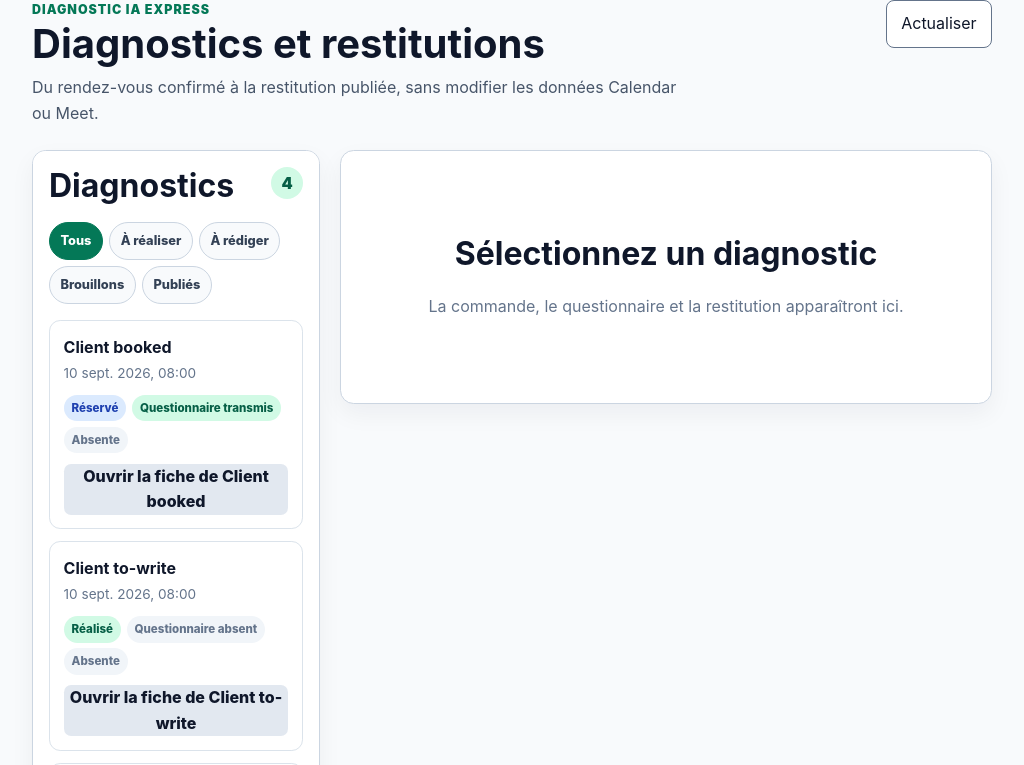
administration des Diagnostics IA et restitutions › marque un booking booked comme completed après confirmation sans appel Calendar ou Meet
Click the button "Ouvrir la fiche de Client booked".
click(176, 489)  # box [64,464,288,515]
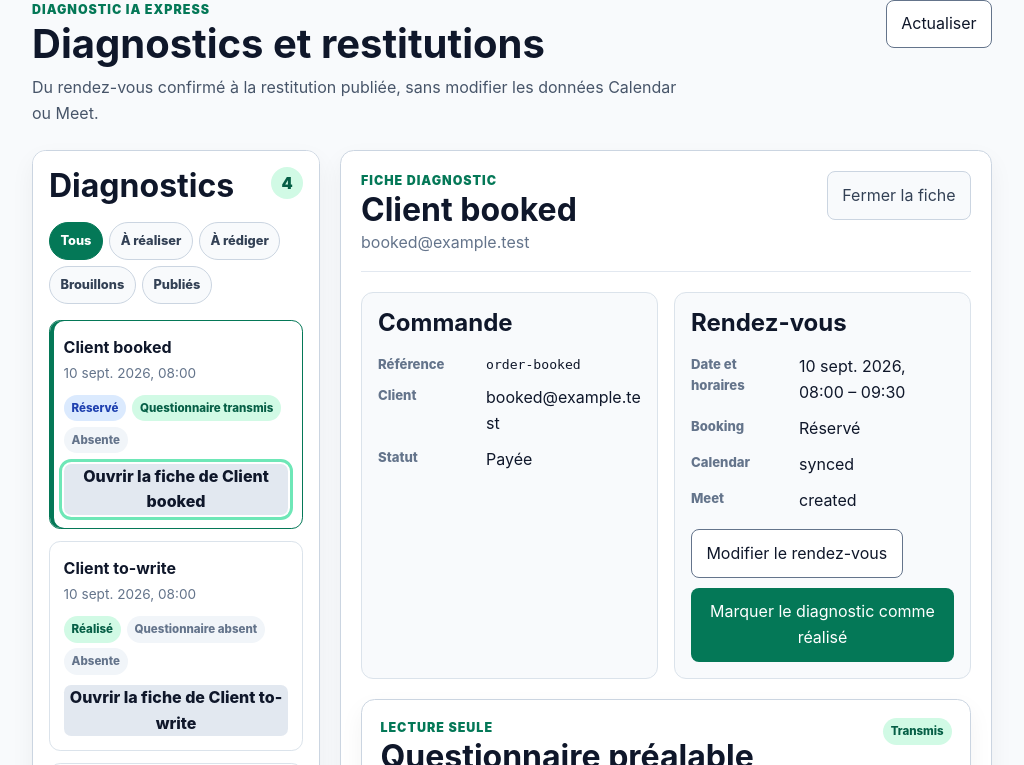
Now the heading "Client booked" is shown, box [361,191,577,230]
Click the button "Marquer le diagnostic comme réalisé".
click(822, 625)  # box [691,588,954,662]
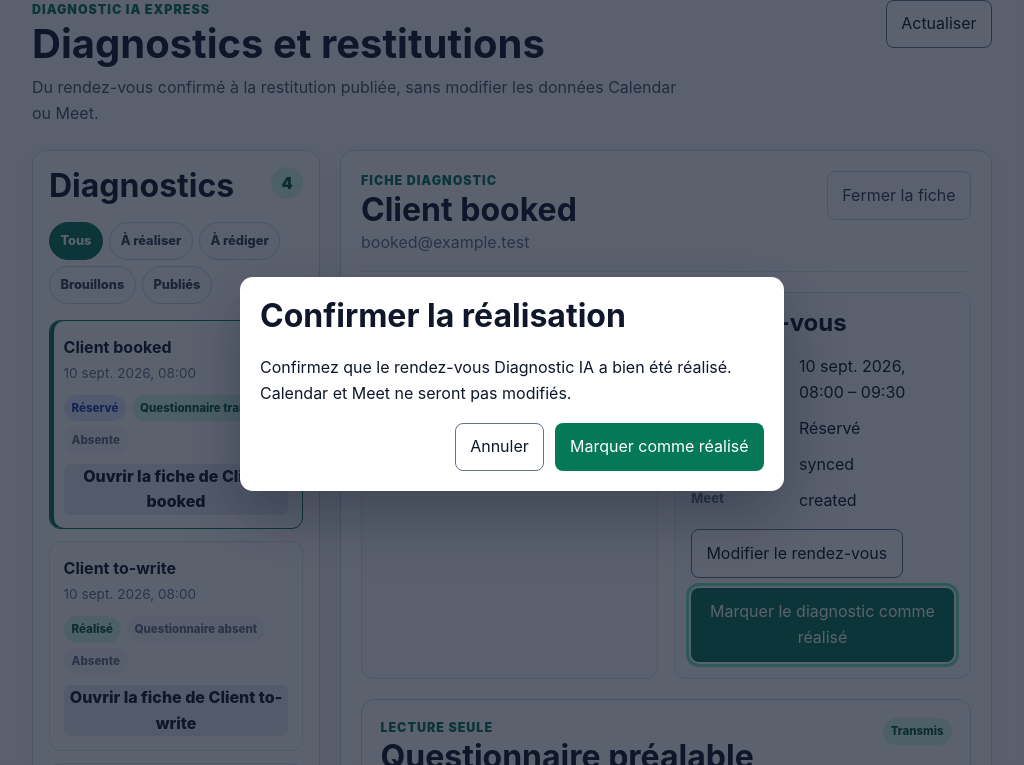
Now the dialog shows "Calendar et Meet ne seront pas modifiés", box [260,357,732,403]
Click the button "Marquer comme réalisé".
click(659, 447)  # box [555,423,764,471]
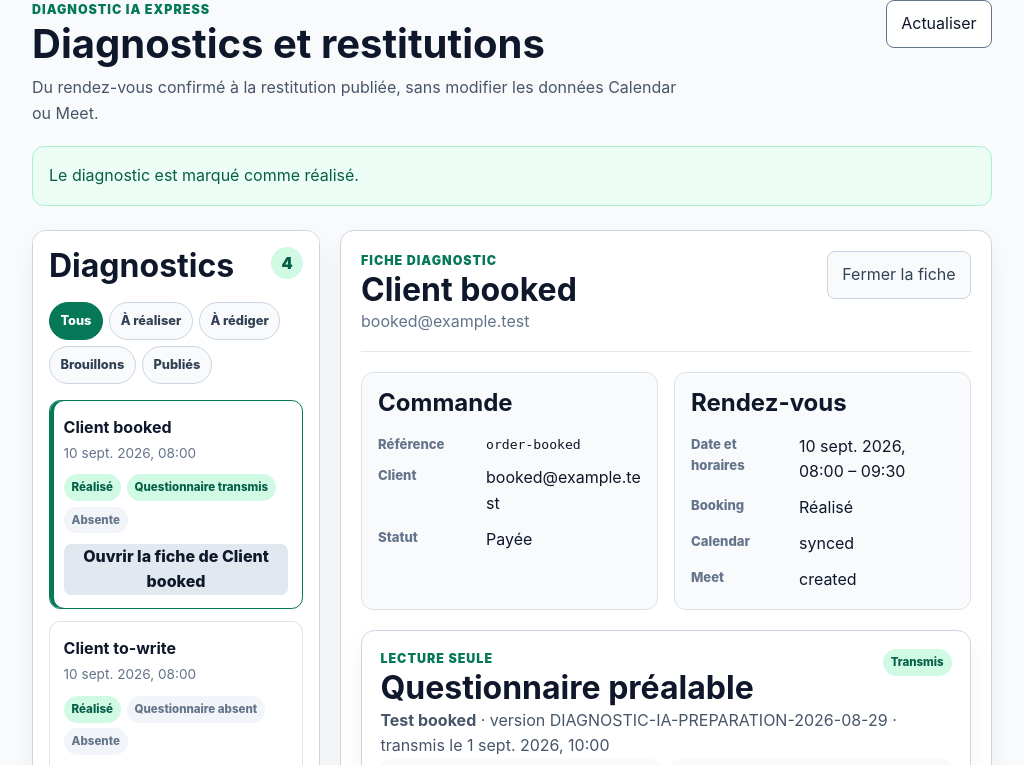
Now the message shows "marqué comme réalisé", box [49,165,359,185]
Now the button "Marquer le diagnostic comme réalisé" is gone
